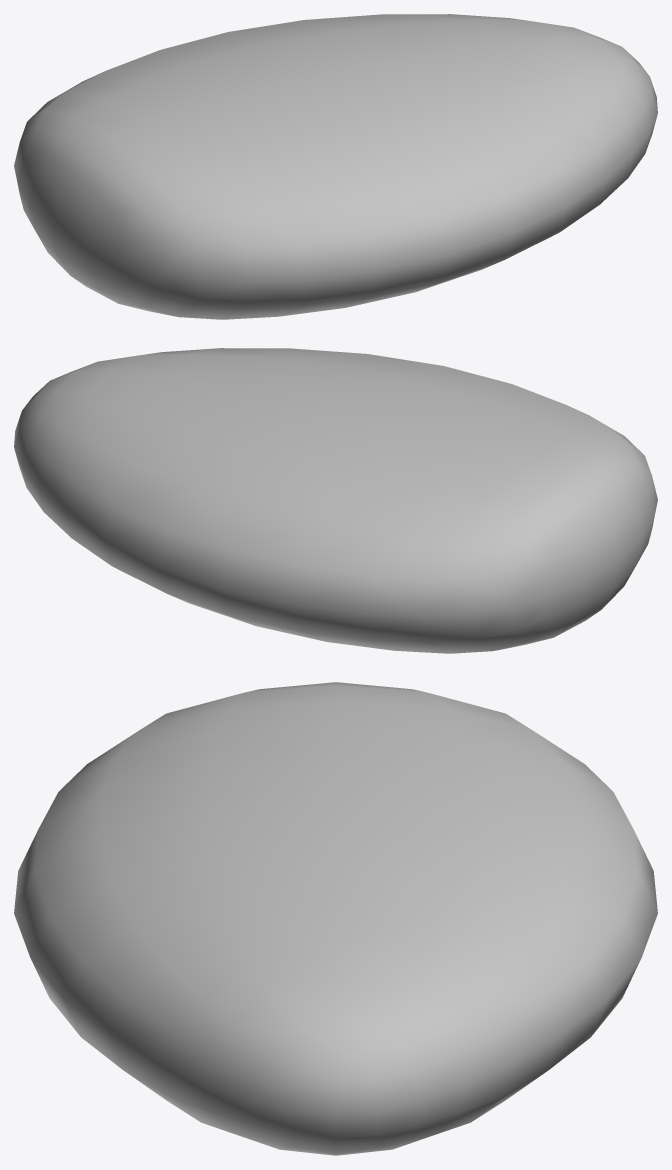
The model's file is Town_12_Stone_2.glb.
3 views of the same model, one above another, from view 1: azimuth 30°, elevation 25°; view 2: azimuth 150°, elevation 25°; view 3: azimuth 270°, elevation 25° (orthographic). The views are drawn at different scales.
Parts seen in each view (by area): view 1: Town_12_Stone_2; view 2: Town_12_Stone_2; view 3: Town_12_Stone_2.
Part boxes in pixels (<box>): Town_12_Stone_2: <box>14,14,657,319</box>; Town_12_Stone_2: <box>14,348,657,653</box>; Town_12_Stone_2: <box>14,682,657,1155</box>.
Bounding box in the file's own units: 1.02 × 0.284 × 0.7538.
Materials: 1 (1 with a texture image).
